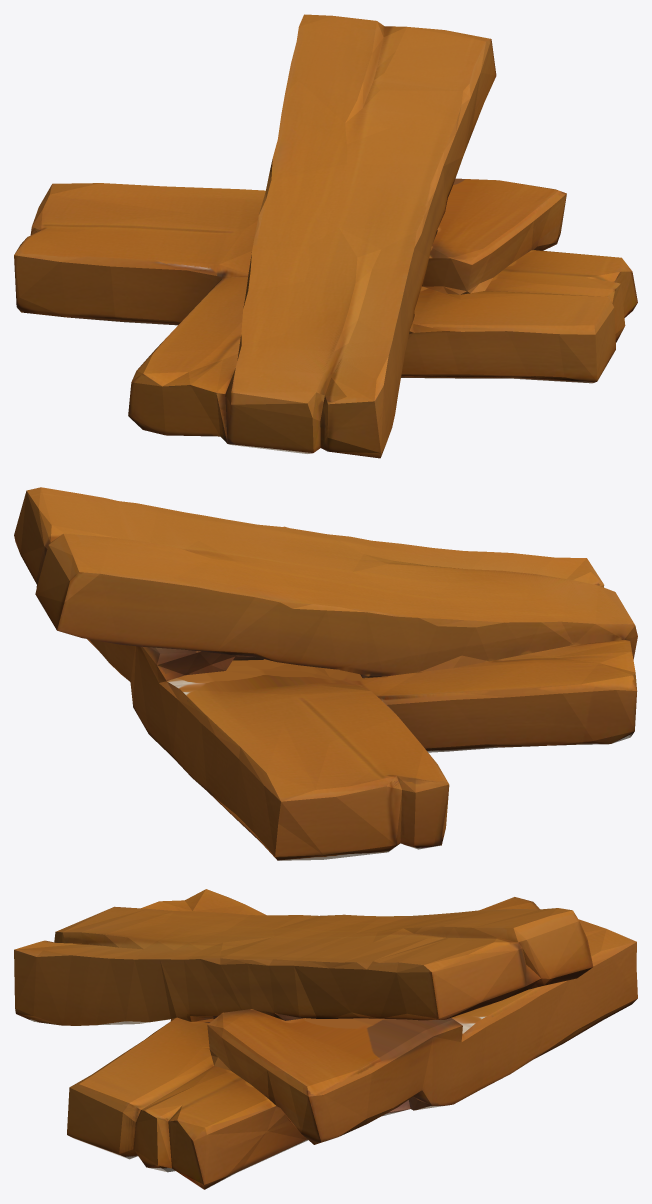
File: debris_2.glb
The picture shows the model from 3 angles, top to bottom: view 1: azimuth 30°, elevation 25°; view 2: azimuth 150°, elevation 25°; view 3: azimuth 270°, elevation 25°; orthographic projection. The views are drawn at different scales.
Visible parts, largest first — view 1: tmpy8_1ndin.ply; view 2: tmpy8_1ndin.ply; view 3: tmpy8_1ndin.ply.
Boxes of the visible parts, x1=… form: tmpy8_1ndin.ply: x1=14, y1=14, x2=637, y2=458; tmpy8_1ndin.ply: x1=14, y1=487, x2=637, y2=860; tmpy8_1ndin.ply: x1=14, y1=889, x2=637, y2=1189.
Bounding box in the file's own units: 1.87 × 0.7366 × 1.96.
1 material, 1 textured.
